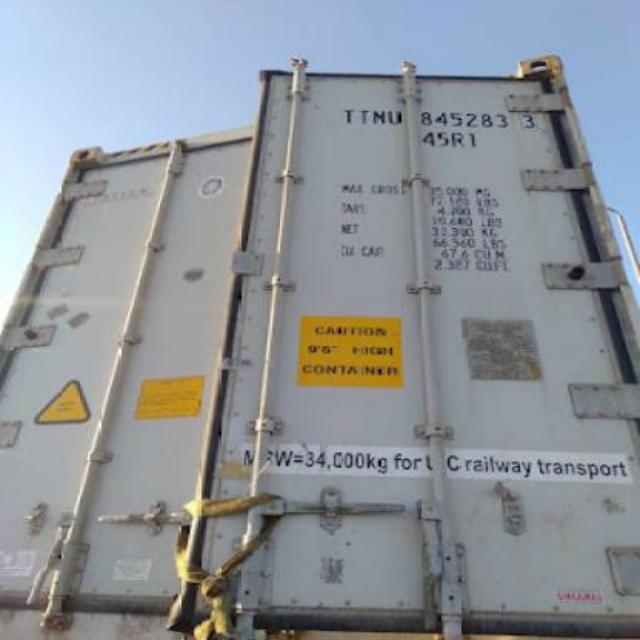2: (466, 111, 478, 129)
3: (520, 111, 538, 132), (496, 112, 509, 132)
4: (436, 112, 448, 125)
5: (448, 110, 464, 126)
8: (481, 111, 494, 129), (421, 112, 434, 125)
N: (370, 108, 388, 124)
T: (358, 108, 372, 128), (344, 108, 356, 124)
U: (388, 108, 404, 126)
